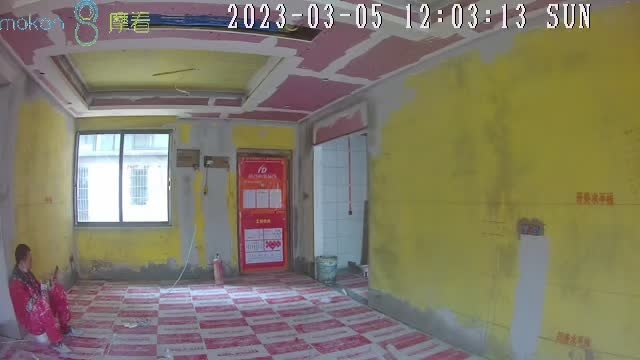people: (9, 244, 72, 354)
window: (75, 129, 172, 228)
